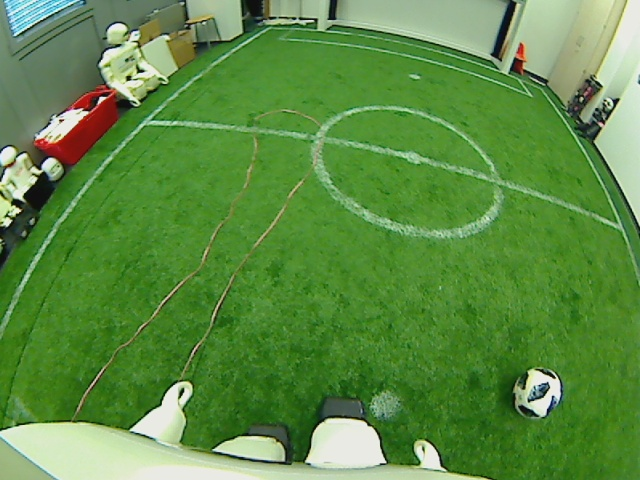ball: (510, 363, 564, 422)
